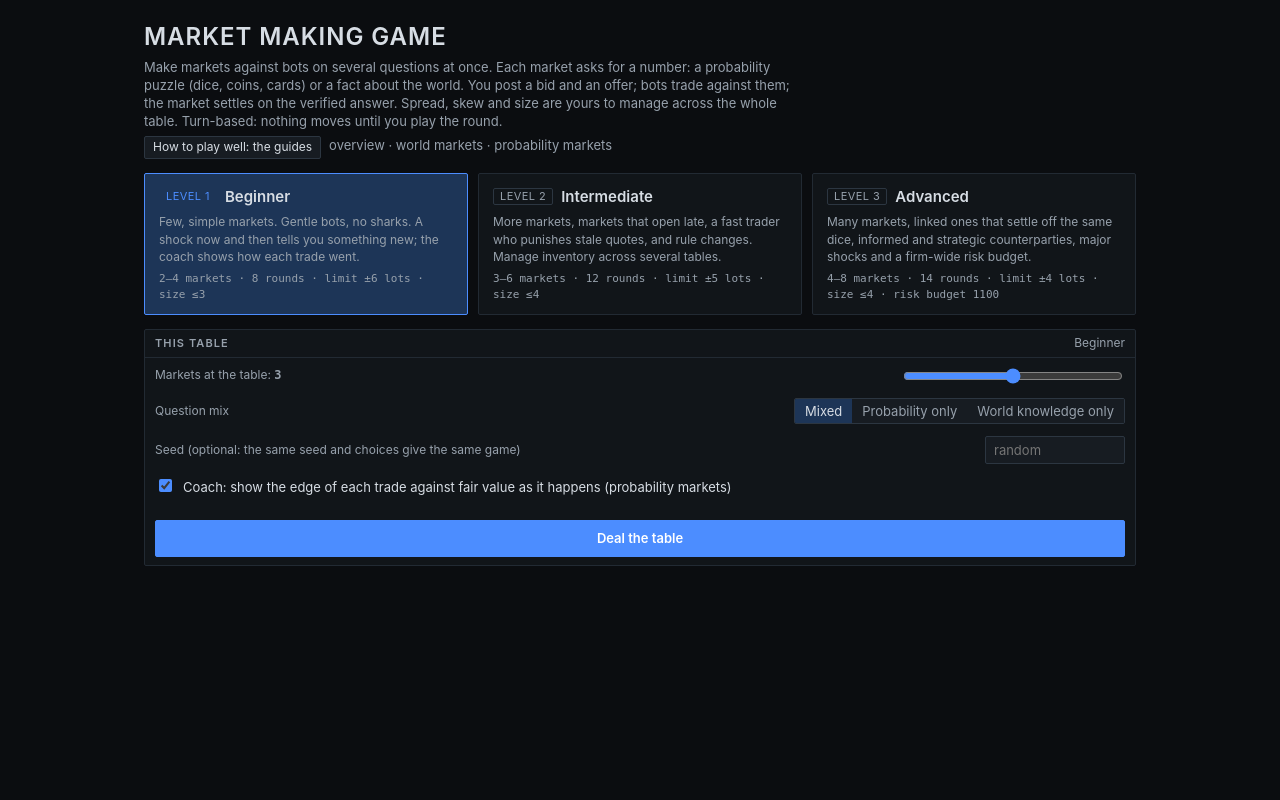
it: the table › nudge buttons move a draft by one tick and widen it
Expected: the heading "MARKET MAKING GAME" is shown, top-left (144, 22), bottom-right (447, 51)
Click the button "Deal the table".
click(640, 539)  # box top-left (155, 520), bottom-right (1125, 557)
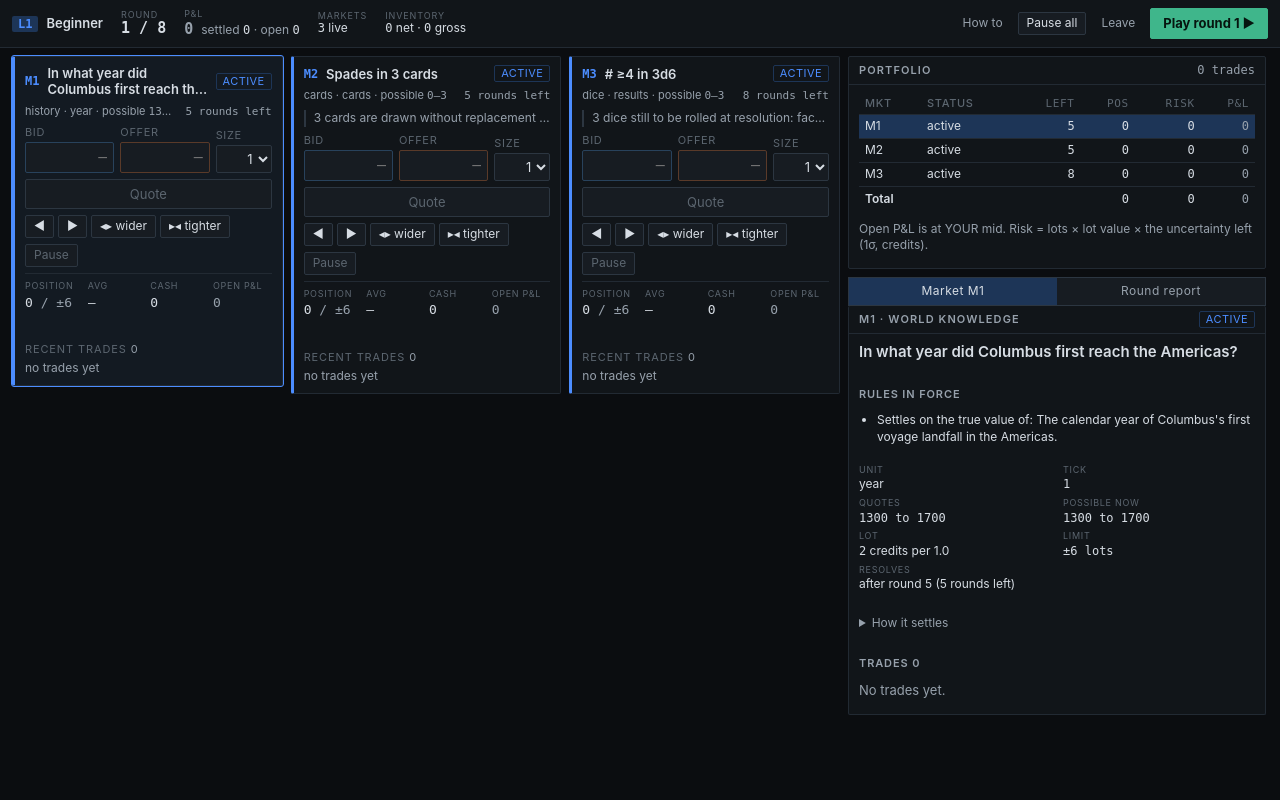
Result: the element with test id "game-table" is shown
Type "1.0" into the field named "M2 bid".
click(348, 166); type("1.0")  # box top-left (304, 150), bottom-right (393, 181)
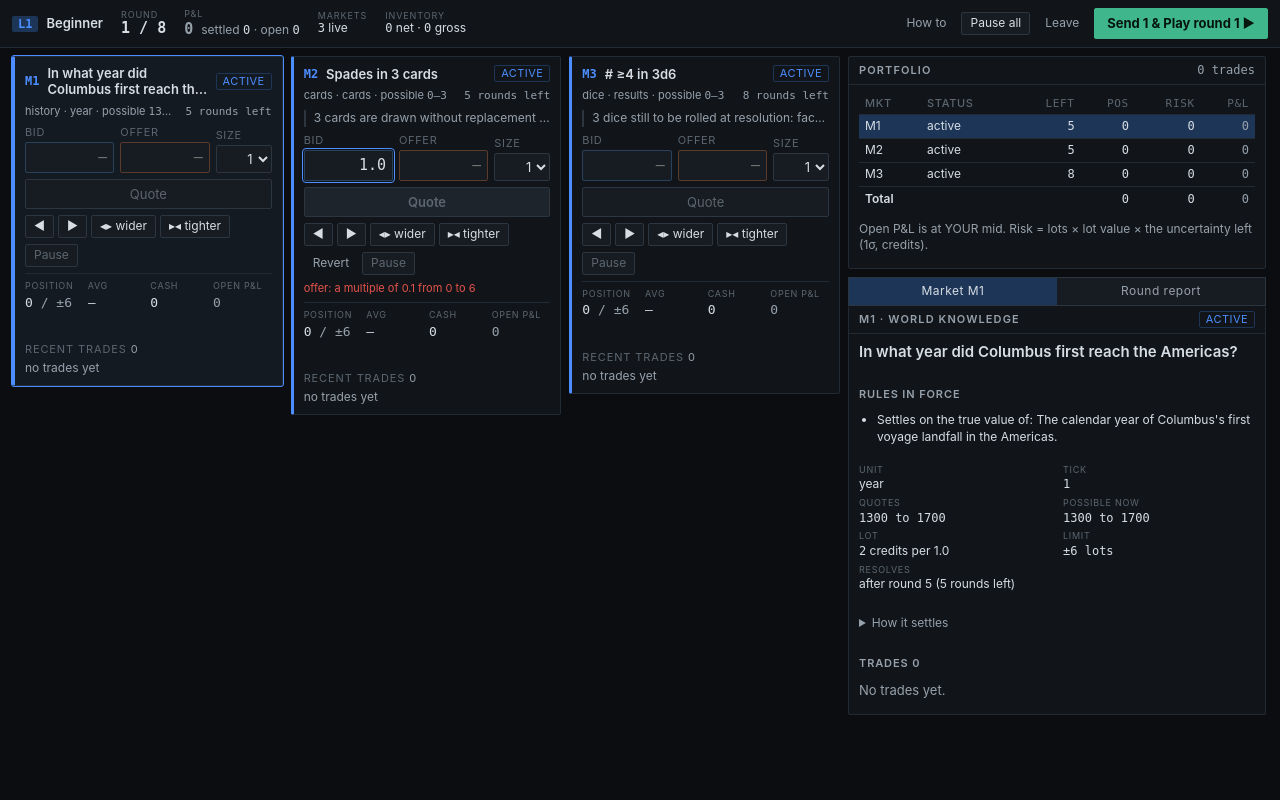
Type "2.0" into the field named "M2 offer".
click(444, 166); type("2.0")  # box top-left (399, 150), bottom-right (488, 181)
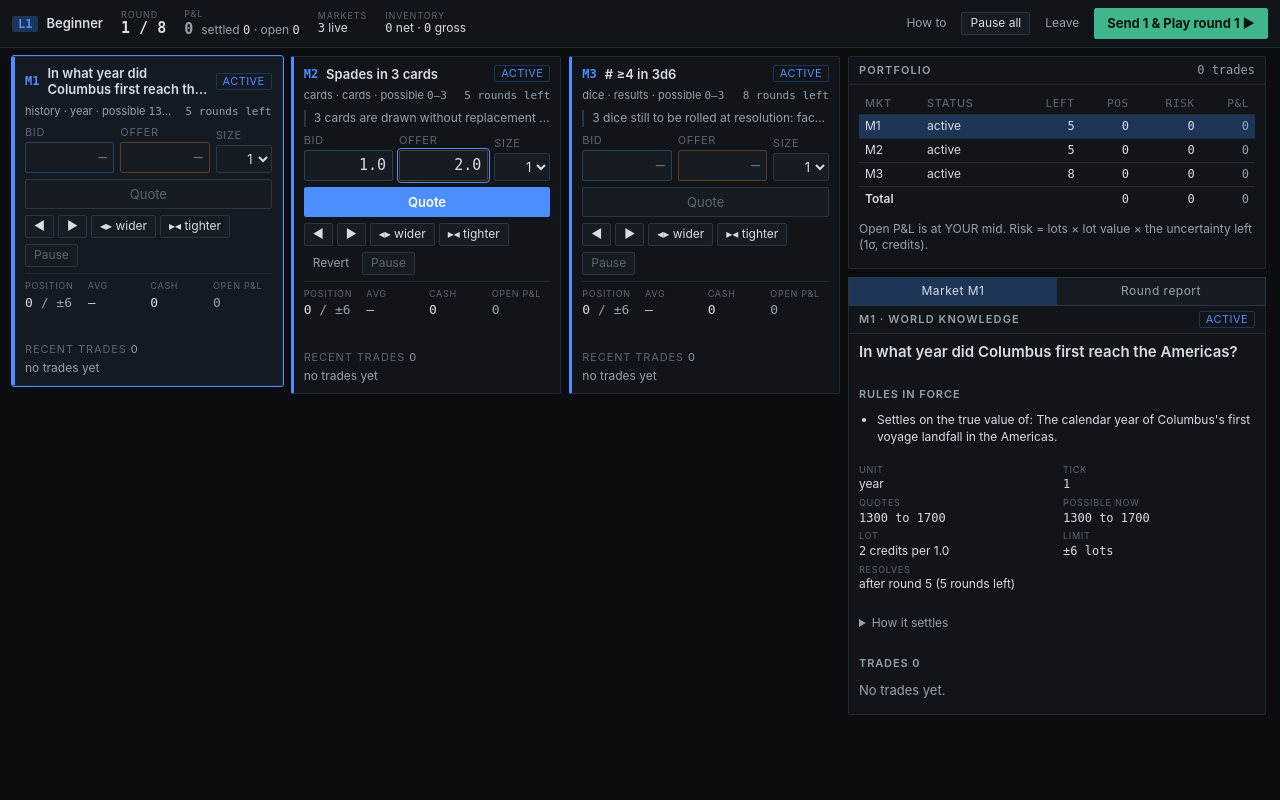
Click the button named "M2 raise both".
click(351, 235)  # box top-left (337, 223), bottom-right (366, 246)
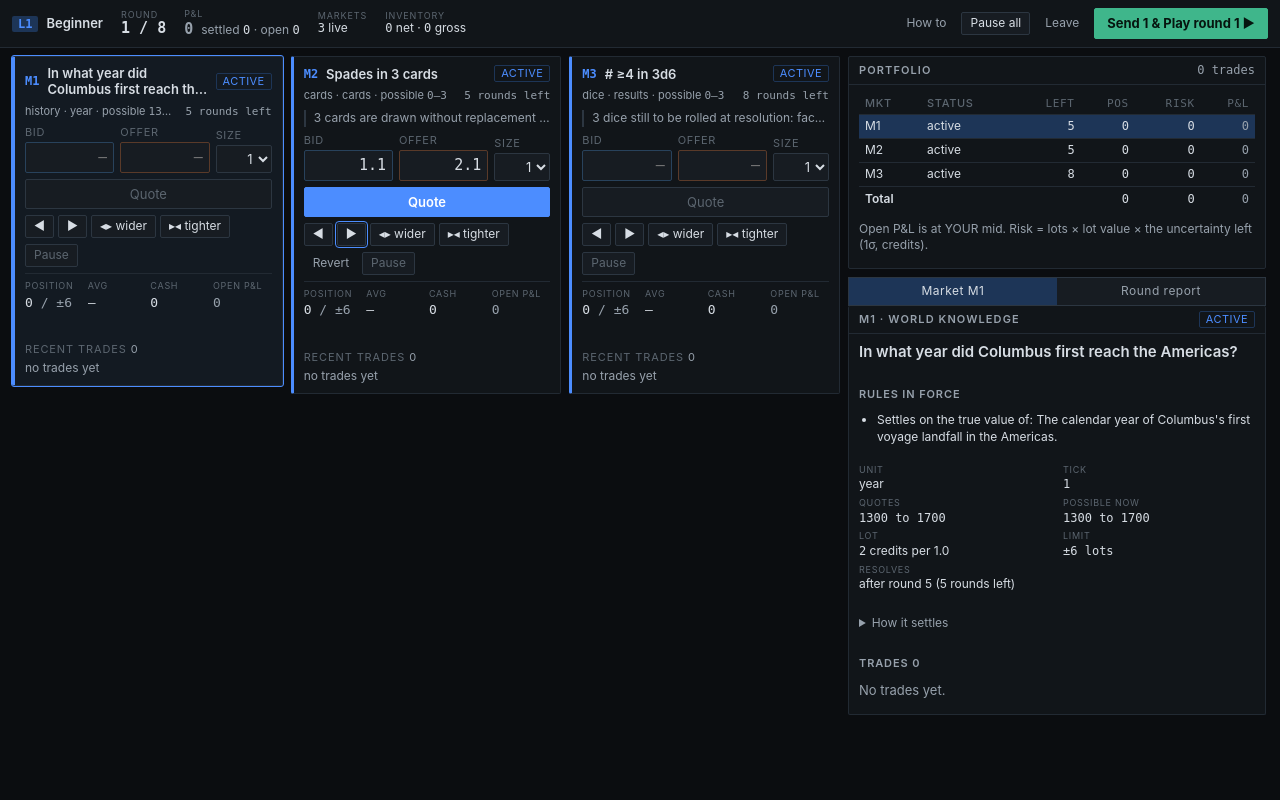
Result: the field named "M2 bid" holds "1.1" at top-left (304, 150), bottom-right (393, 181)
Result: the field named "M2 offer" holds "2.1" at top-left (399, 150), bottom-right (488, 181)
Click the button with aria-label "M2 widen".
click(402, 235)  # box top-left (370, 223), bottom-right (435, 246)
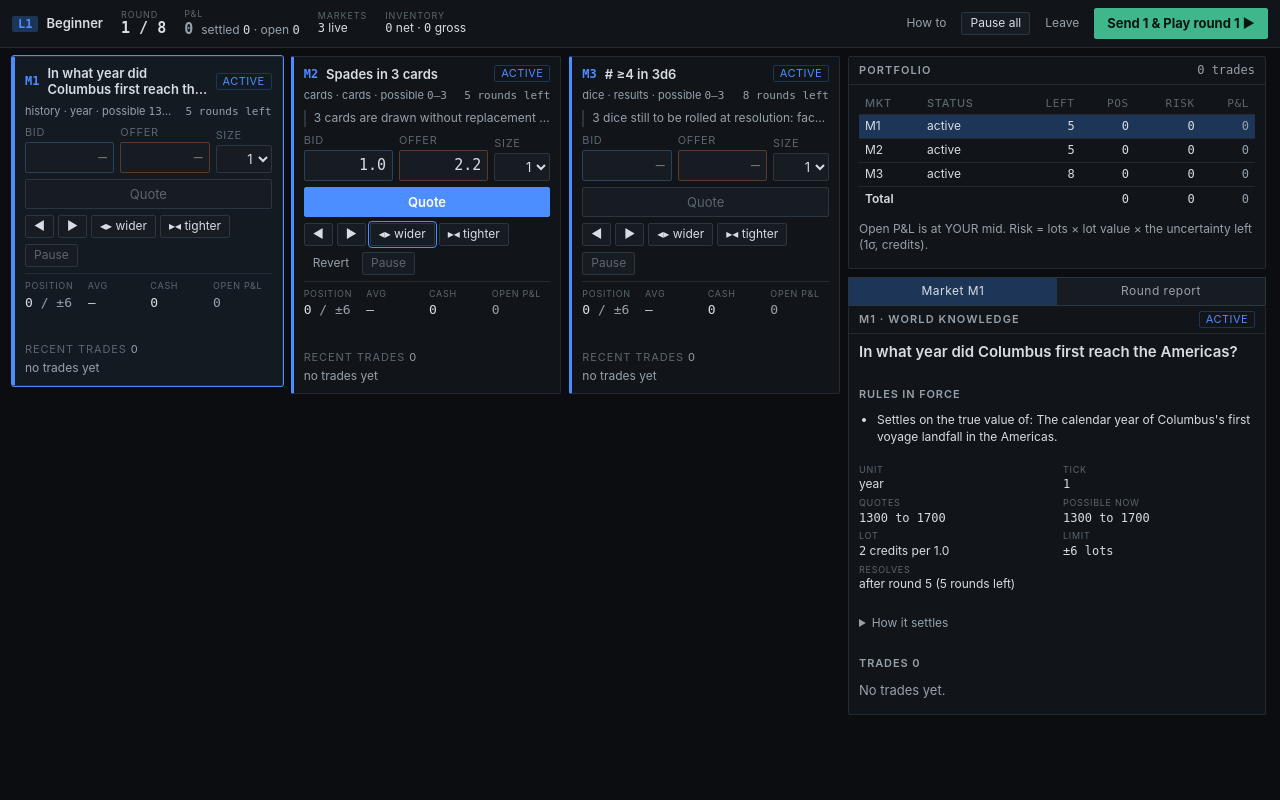
Result: the field named "M2 offer" holds "2.2" at top-left (399, 150), bottom-right (488, 181)
